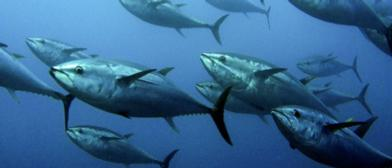Scombridae -Tunas-: (45, 56, 236, 150), (269, 102, 392, 166), (64, 121, 186, 168), (120, 0, 228, 46)
